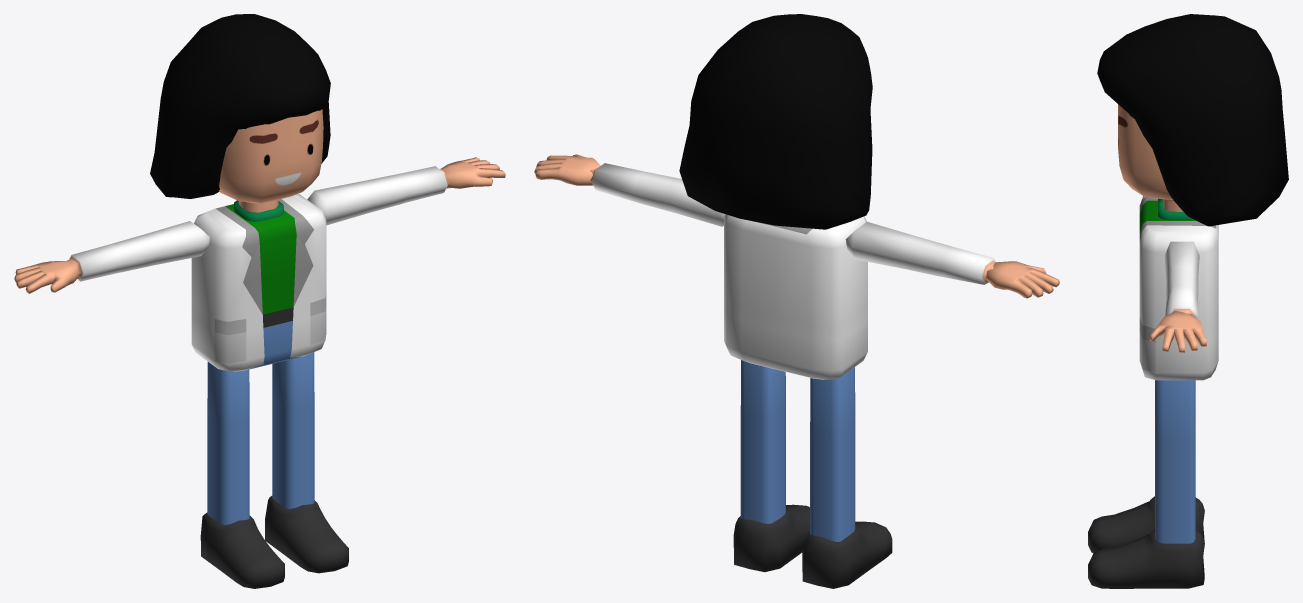
Rendered from NPC_White01_BlackHair06.gltf.
3 renders of one model, left to right at view 1: azimuth 30°, elevation 25°; view 2: azimuth 150°, elevation 25°; view 3: azimuth 270°, elevation 25°, orthographic. The views are drawn at different scales.
Parts seen in each view (by area): view 1: NPC_Corpo_White1_BlackHair.006; view 2: NPC_Corpo_White1_BlackHair.006; view 3: NPC_Corpo_White1_BlackHair.006.
Part boxes in pixels (left/top/right/bottom): NPC_Corpo_White1_BlackHair.006: left=14, top=14, right=505, bottom=588; NPC_Corpo_White1_BlackHair.006: left=534, top=14, right=1059, bottom=588; NPC_Corpo_White1_BlackHair.006: left=1088, top=14, right=1288, bottom=588.
Size of the model in its own units: 2.31 by 2.37 by 0.7967.
1 material, 1 textured.
